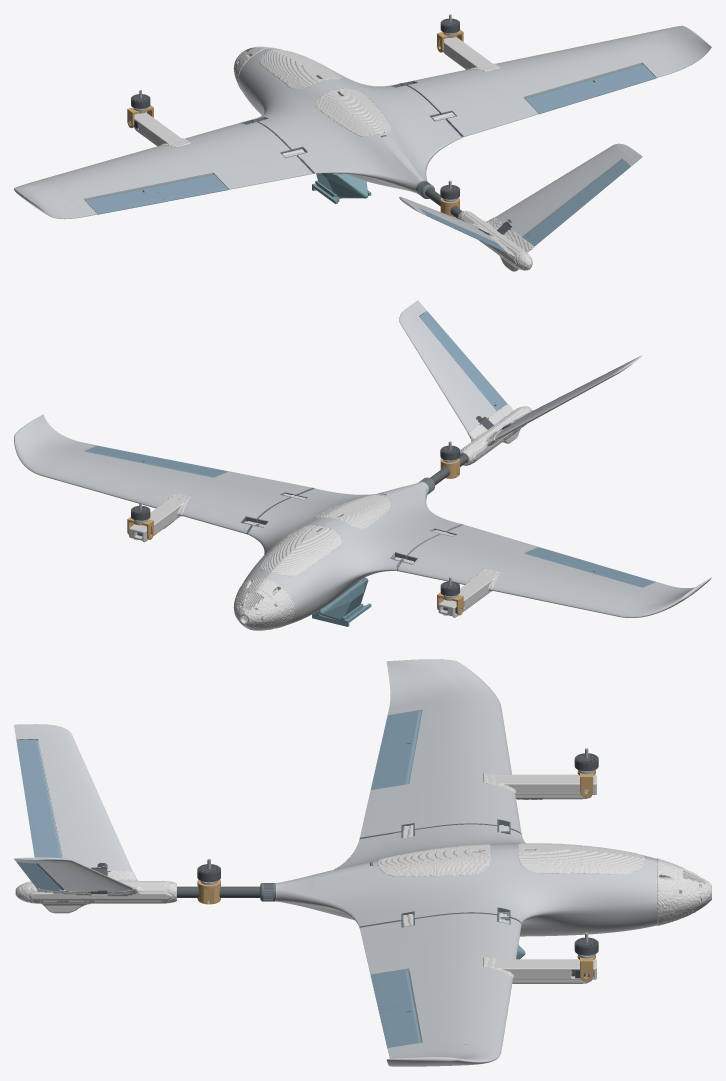
Rendered from stallion_v2_pod_repaired.glb.
The picture shows the model from 3 angles, top to bottom: view 1: azimuth 30°, elevation 25°; view 2: azimuth 150°, elevation 25°; view 3: azimuth 270°, elevation 25°; orthographic projection. The views are drawn at different scales.
Visible parts, largest first — view 1: WING 1L VTOL, WING 1R VTOL, FUS 4L, WING 2L VTOL, WING 2R VTOL, WING 3 L NO LED, FUS 5L, WING 3 R NO LED, WINGTIP R NO LED, FUS 4R, V TAIL 1 R, WINGTIP L NO LED (+21 smaller); view 2: WING 1L VTOL, WING 1R VTOL, WING 2L VTOL, WING 3 L NO LED, WING 2R VTOL, FUS 2L, WING 3 R NO LED, WINGTIP R NO LED, V TAIL 1 R, FUS 1L, NOSE, FUS 4L (+24 smaller); view 3: WING 1R VTOL, WING 1L VTOL, FUS 2R, FUS 1R, V TAIL 1 L, WINGTIP L NO LED, WING 2R VTOL, FUS 4R, WING 3 R NO LED, WING 2L VTOL, WING 3 L NO LED, FUS 5R (+23 smaller).
Part boxes in pixels (bbox=[...]): WING 1L VTOL: bbox=[183, 120, 312, 189]; WING 1R VTOL: bbox=[401, 69, 538, 136]; FUS 4L: bbox=[276, 115, 385, 183]; WING 2L VTOL: bbox=[108, 145, 213, 188]; WING 2R VTOL: bbox=[493, 52, 587, 98]; WING 3 L NO LED: bbox=[43, 160, 142, 216]; FUS 5L: bbox=[311, 138, 422, 193]; WING 3 R NO LED: bbox=[553, 37, 665, 79]; WINGTIP R NO LED: bbox=[623, 25, 711, 74]; FUS 4R: bbox=[374, 97, 458, 142]; V TAIL 1 R: bbox=[495, 179, 576, 237]; WINGTIP L NO LED: bbox=[14, 179, 86, 219]; WING 1L VTOL: bbox=[398, 524, 538, 584]; WING 1R VTOL: bbox=[182, 471, 312, 533]; WING 2L VTOL: bbox=[492, 553, 586, 602]; WING 3 L NO LED: bbox=[550, 572, 665, 616]; WING 2R VTOL: bbox=[105, 463, 212, 508]; FUS 2L: bbox=[319, 523, 400, 606]; WING 3 R NO LED: bbox=[41, 443, 142, 493]; WINGTIP R NO LED: bbox=[14, 414, 86, 475]; V TAIL 1 R: bbox=[432, 359, 496, 432]; FUS 1L: bbox=[267, 560, 334, 625]; NOSE: bbox=[233, 578, 293, 630]; FUS 4L: bbox=[374, 493, 459, 541]; WING 1R VTOL: bbox=[360, 913, 521, 974]; WING 1L VTOL: bbox=[360, 777, 521, 837]; FUS 2R: bbox=[505, 849, 584, 936]; FUS 1R: bbox=[584, 859, 657, 934]; V TAIL 1 L: bbox=[50, 798, 132, 871]; WINGTIP L NO LED: bbox=[386, 659, 501, 709]; WING 2R VTOL: bbox=[409, 961, 512, 1014]; FUS 4R: bbox=[366, 863, 453, 924]; WING 3 R NO LED: bbox=[387, 1003, 507, 1053]; WING 2L VTOL: bbox=[409, 738, 511, 783]; WING 3 L NO LED: bbox=[387, 699, 507, 746]; FUS 5R: bbox=[276, 865, 366, 927].
Bounding box in the file's own units: 1.34 × 0.285 × 0.9924.
